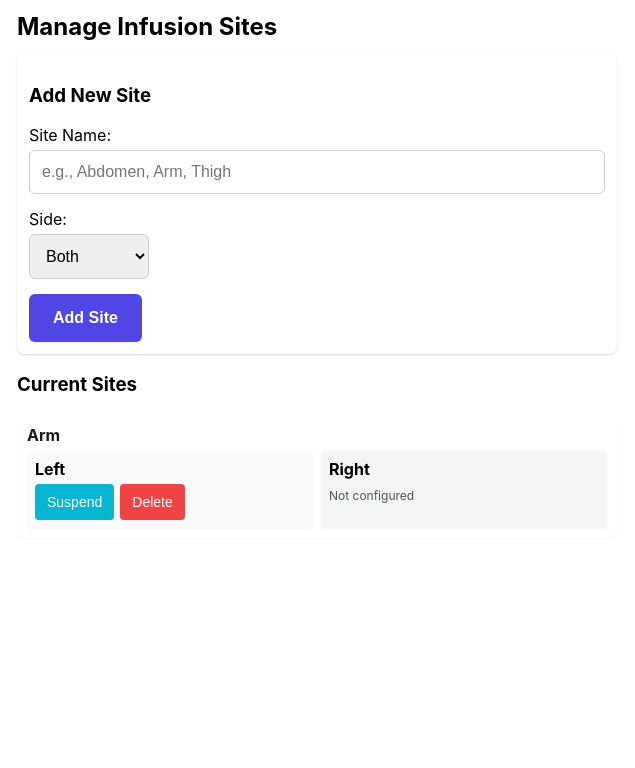
it: LocationManager - suspension UI › clicking a preset duration suspends the site
Step 1. Click the button "Suspend" → click(75, 502), box [35, 484, 114, 520]
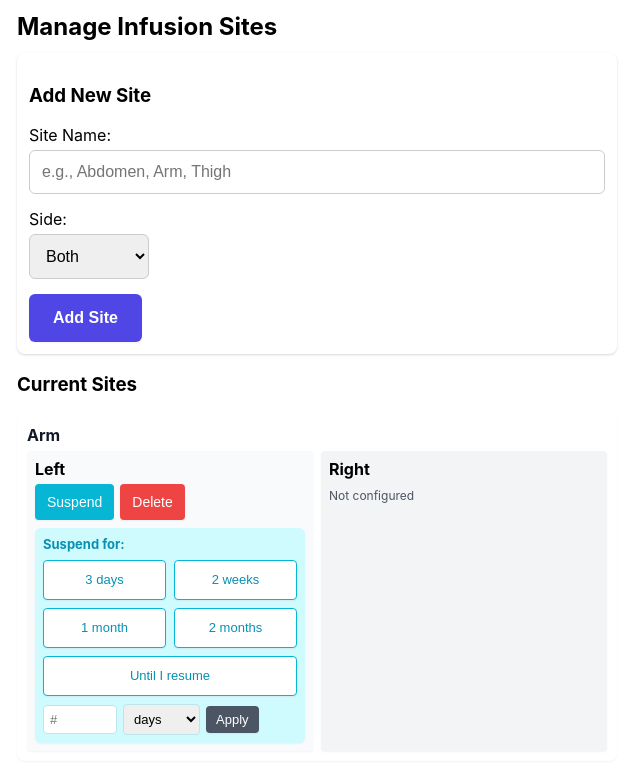
Step 2. Click the button "3 days" → click(104, 580), box [43, 560, 166, 600]
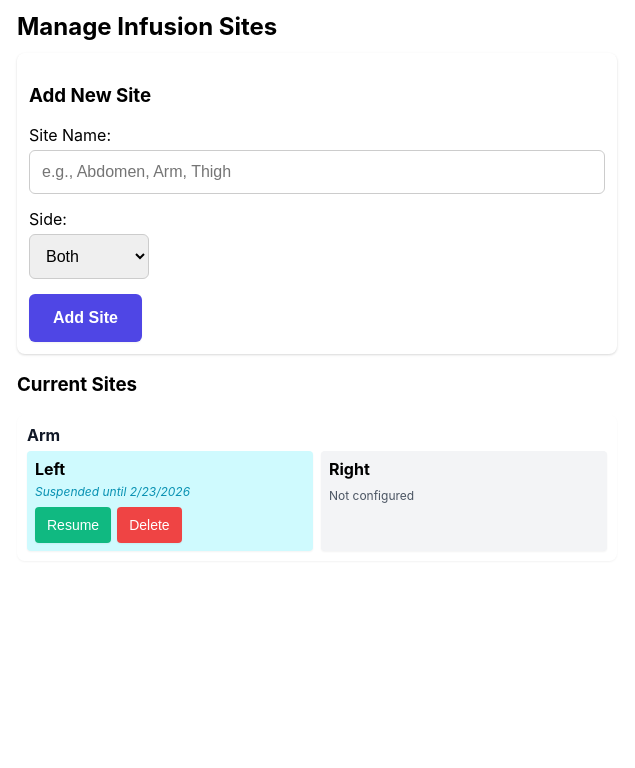
Now the button "Resume" is shown, box [35, 507, 111, 543]
